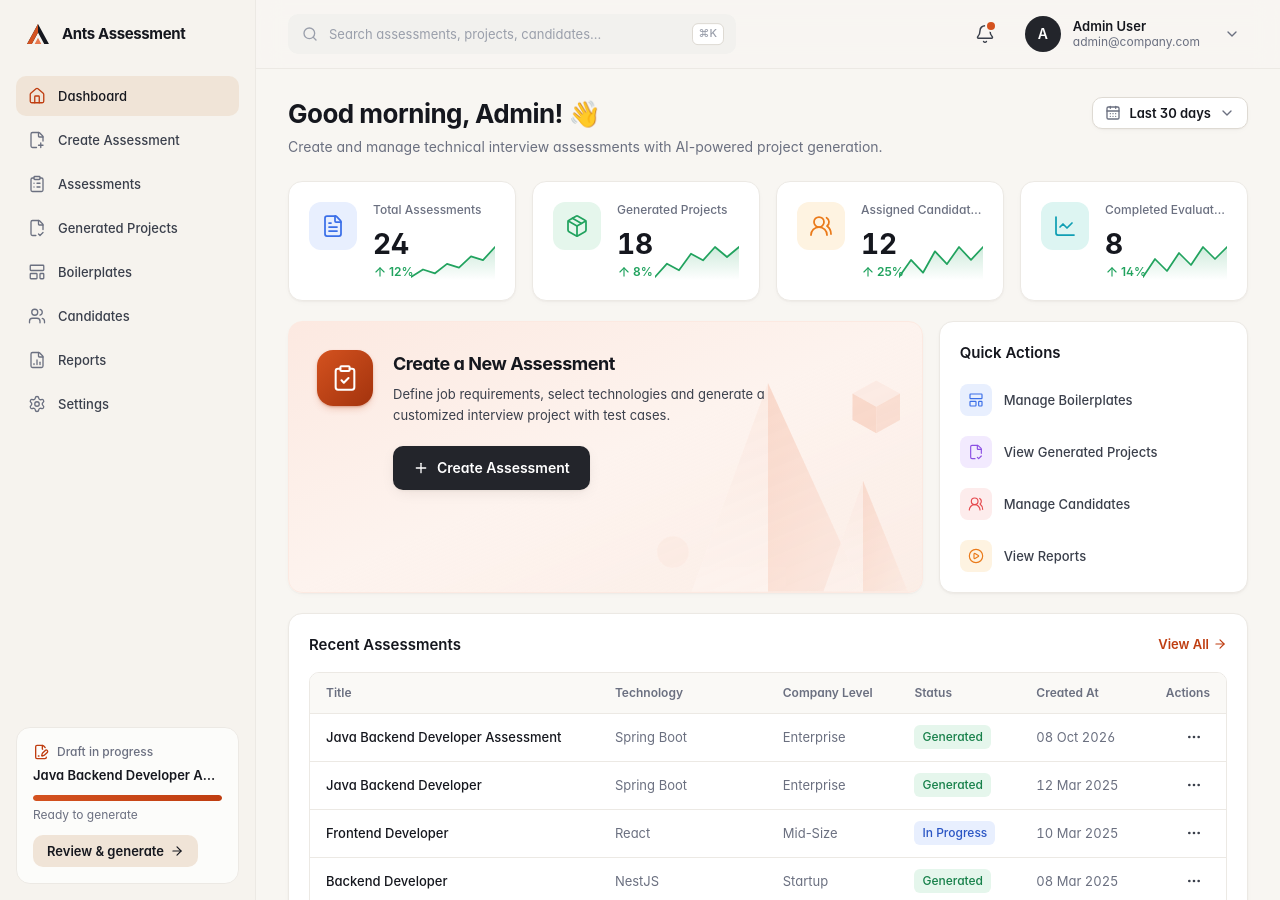
Scenario: Generated Project Details › lists newly generated projects on the dashboard and the projects page
expect the row that starts with "Java Backend Developer Assessment" is shown: met, box [326,729,561,745]
expect the row that starts with "Java Backend Developer Assessment" shows "Generated": met, box [922,729,983,744]
Click the link "Generated Projects".
click(103, 228)  # box [28,219,178,237]
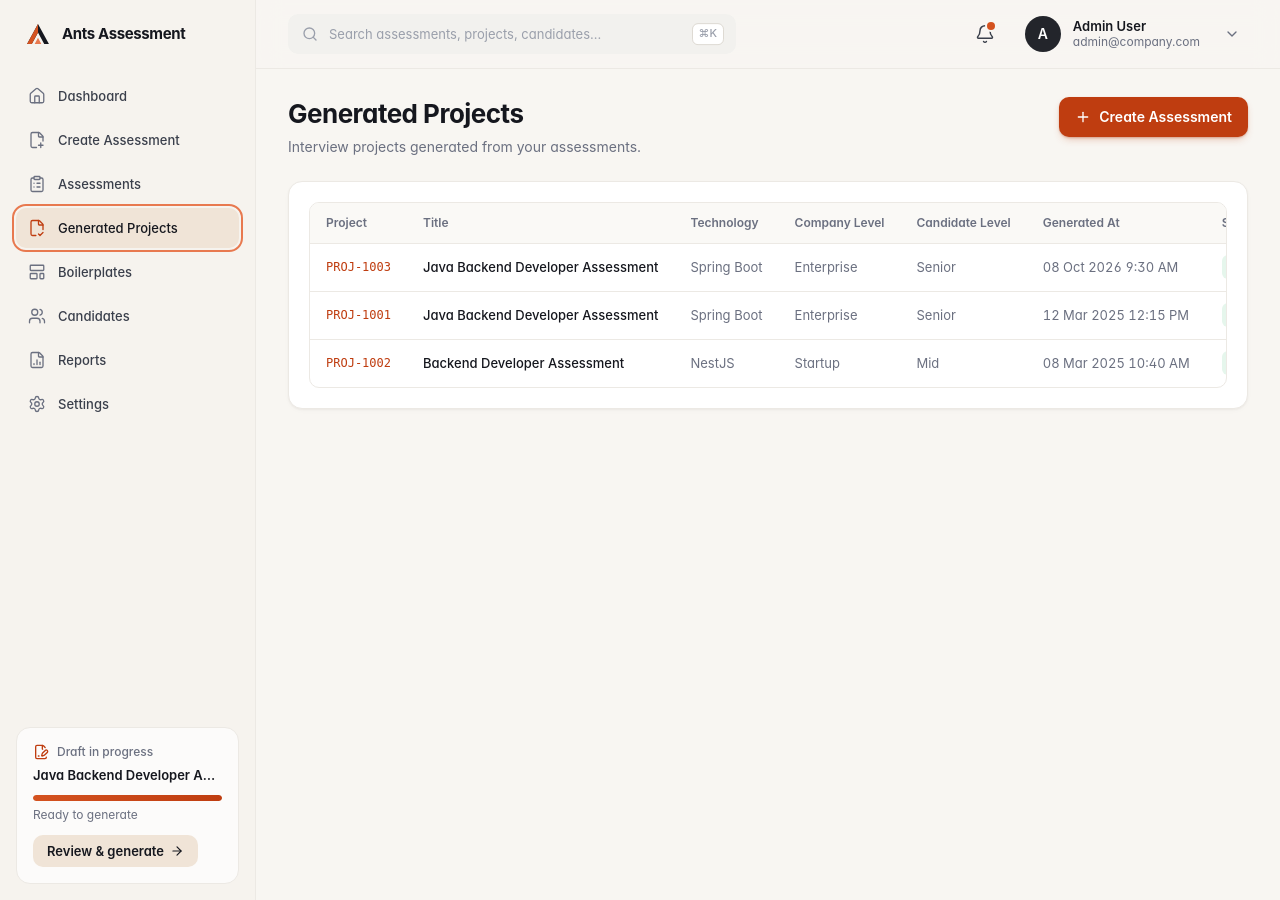
expect the row that starts with "PROJ-1003" is shown: met, box [326,260,391,274]
